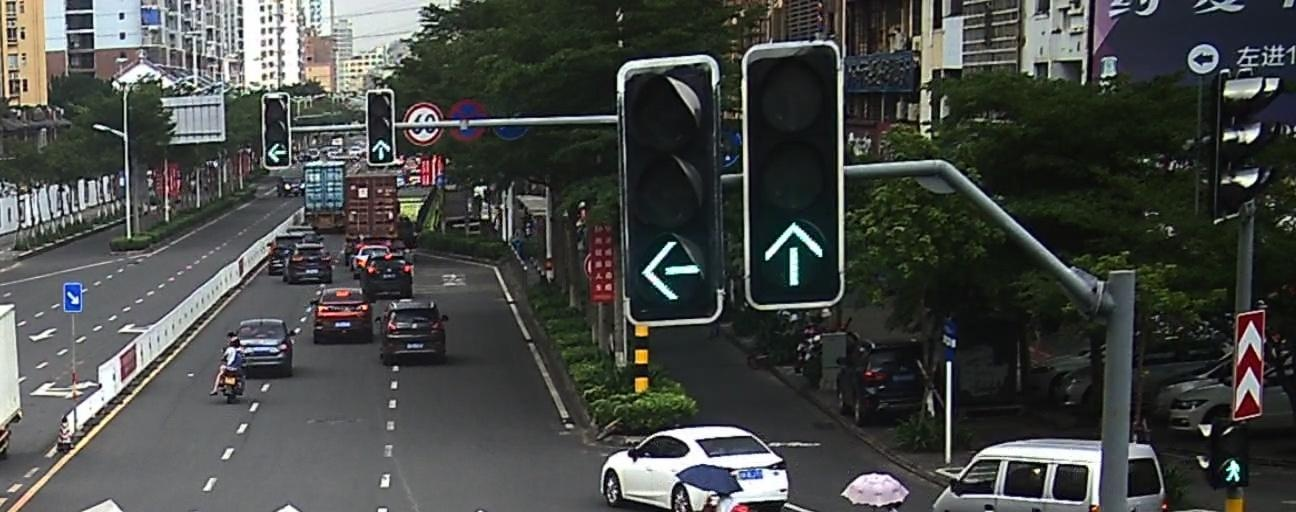greenleft: (633, 238, 707, 308), (264, 142, 289, 165)
greenpeople: (1220, 456, 1244, 484)
greenstraight: (761, 220, 827, 290), (368, 138, 392, 163)
